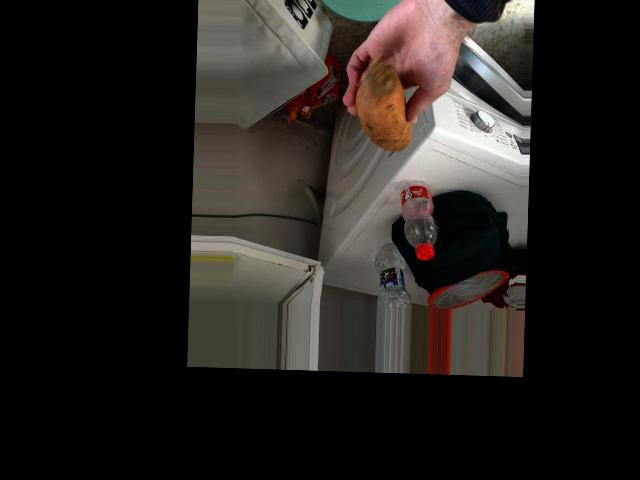sweet_potato: (357, 50, 405, 155)
